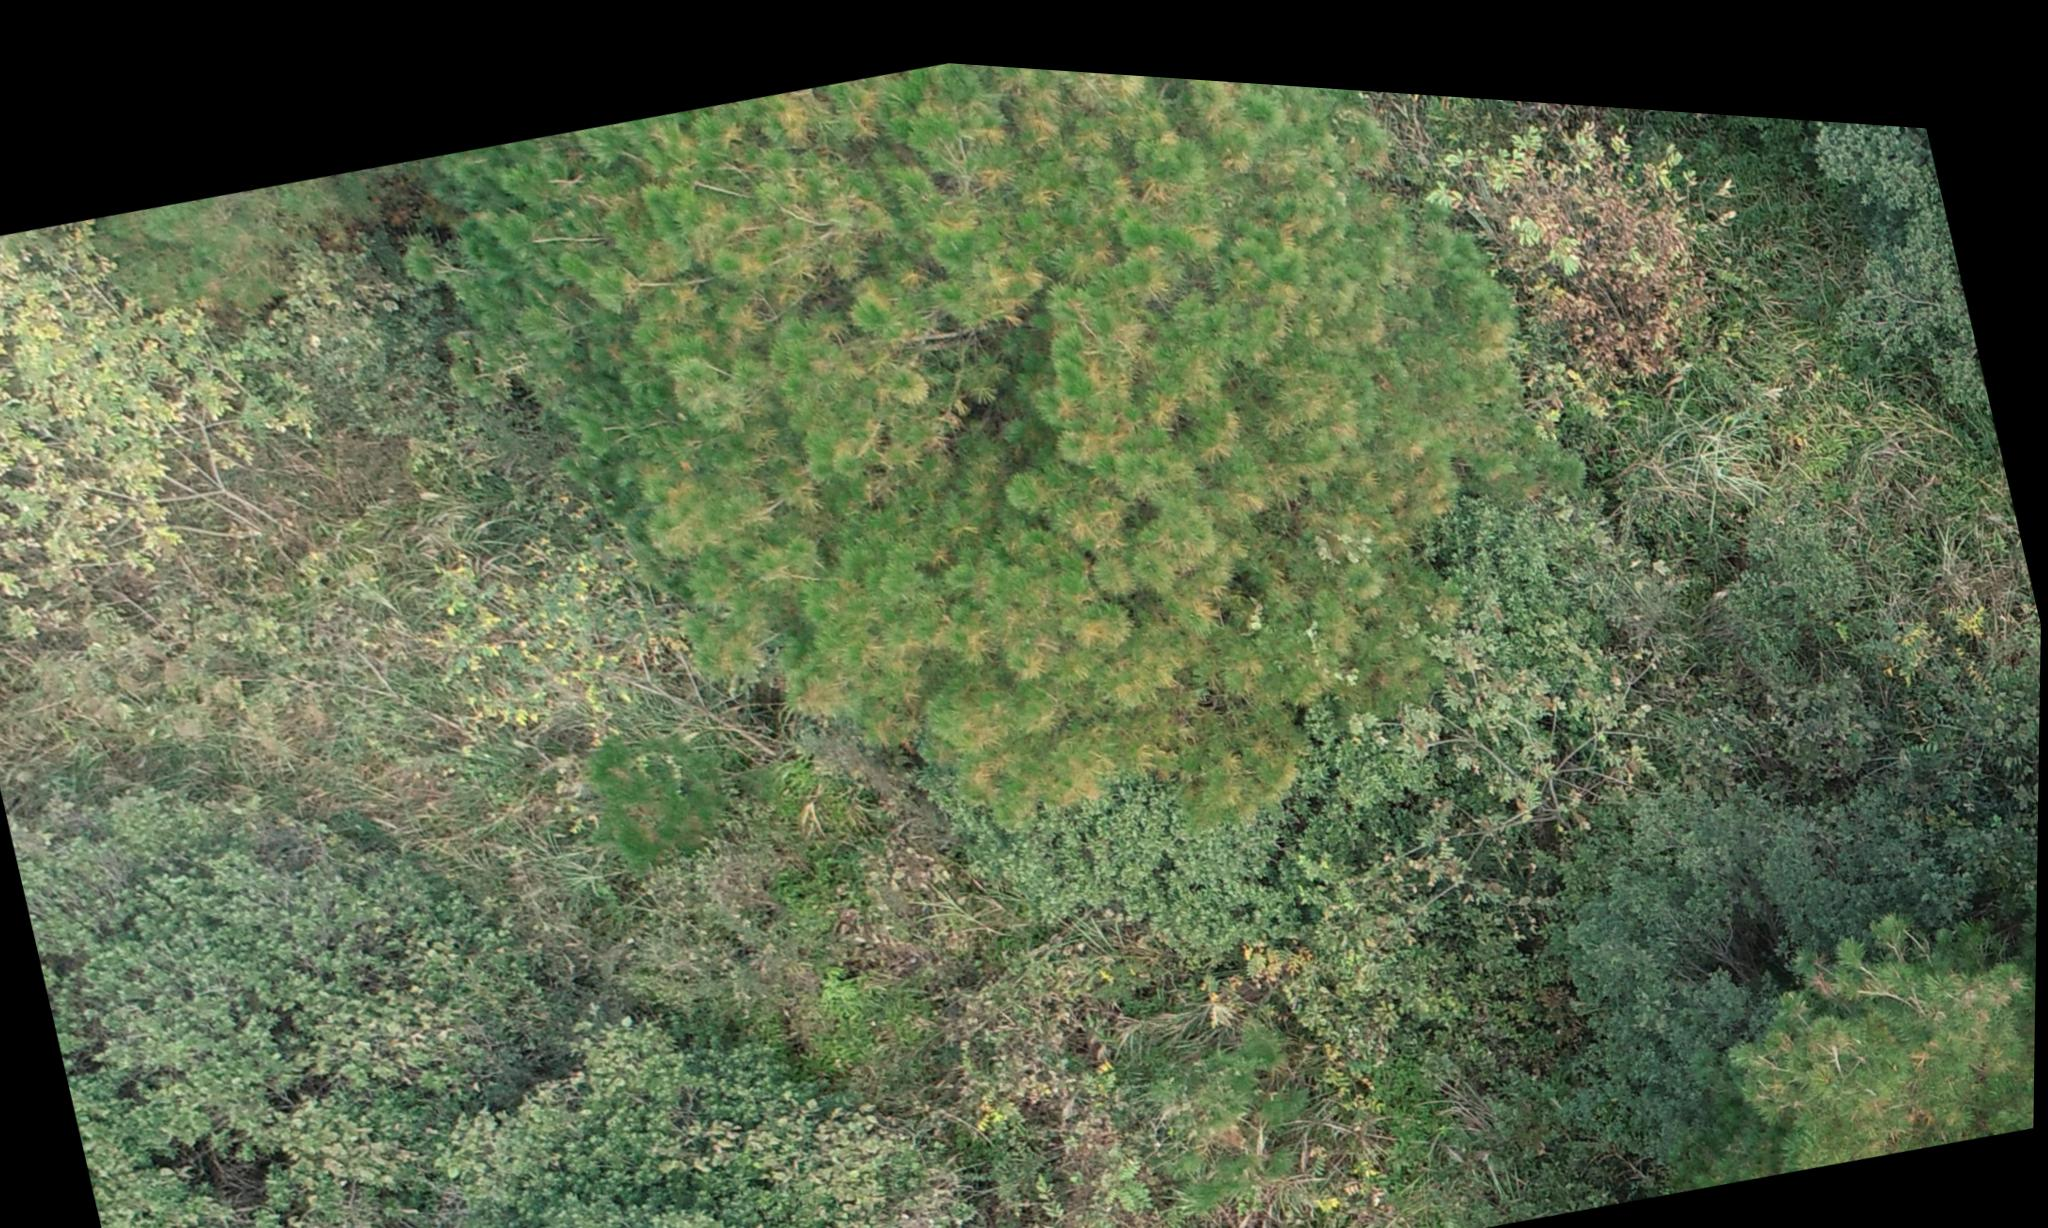light: (395, 22, 1666, 936)
